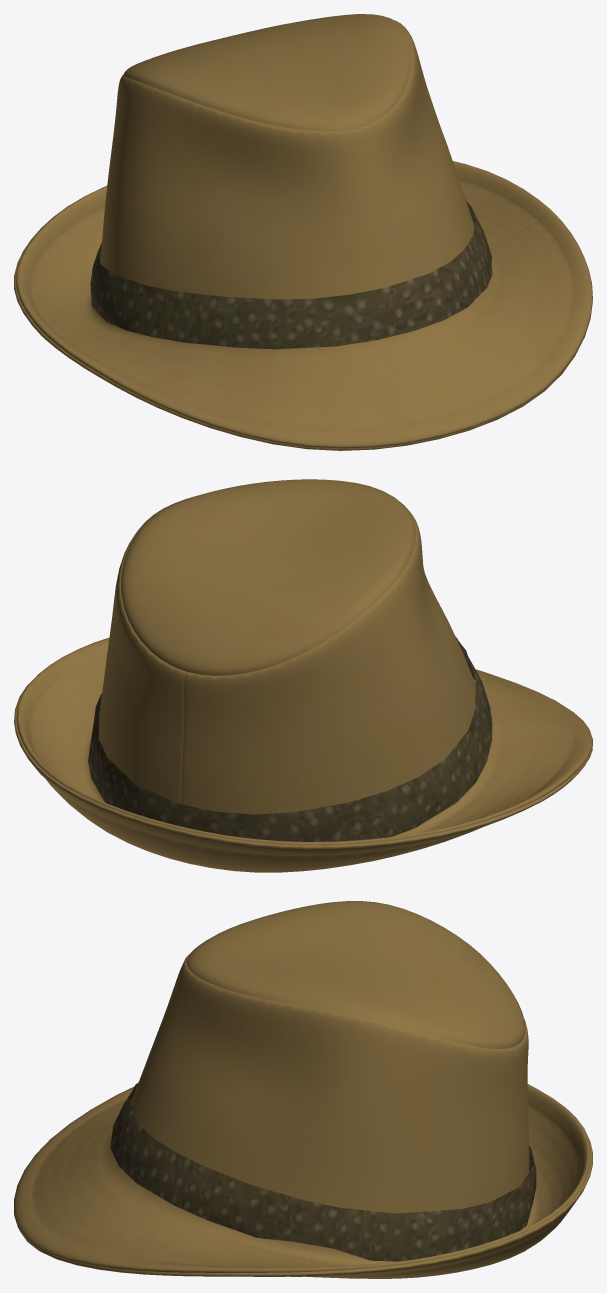
Rendered from elvs-male-trilby-hat.glb.
3 renders of one model, top to bottom at view 1: azimuth 30°, elevation 25°; view 2: azimuth 150°, elevation 25°; view 3: azimuth 270°, elevation 25°, orthographic.
Parts seen in each view (by area): view 1: Human.elvs_male_trilby_hat; view 2: Human.elvs_male_trilby_hat; view 3: Human.elvs_male_trilby_hat.
Boxes of the visible parts, x1,y1,x2,y2 form: Human.elvs_male_trilby_hat: [14, 14, 592, 450]; Human.elvs_male_trilby_hat: [14, 479, 592, 872]; Human.elvs_male_trilby_hat: [14, 901, 592, 1278].
Bounding box in the file's own units: 0.2684 × 0.137 × 0.2731.
1 material, 1 textured.
